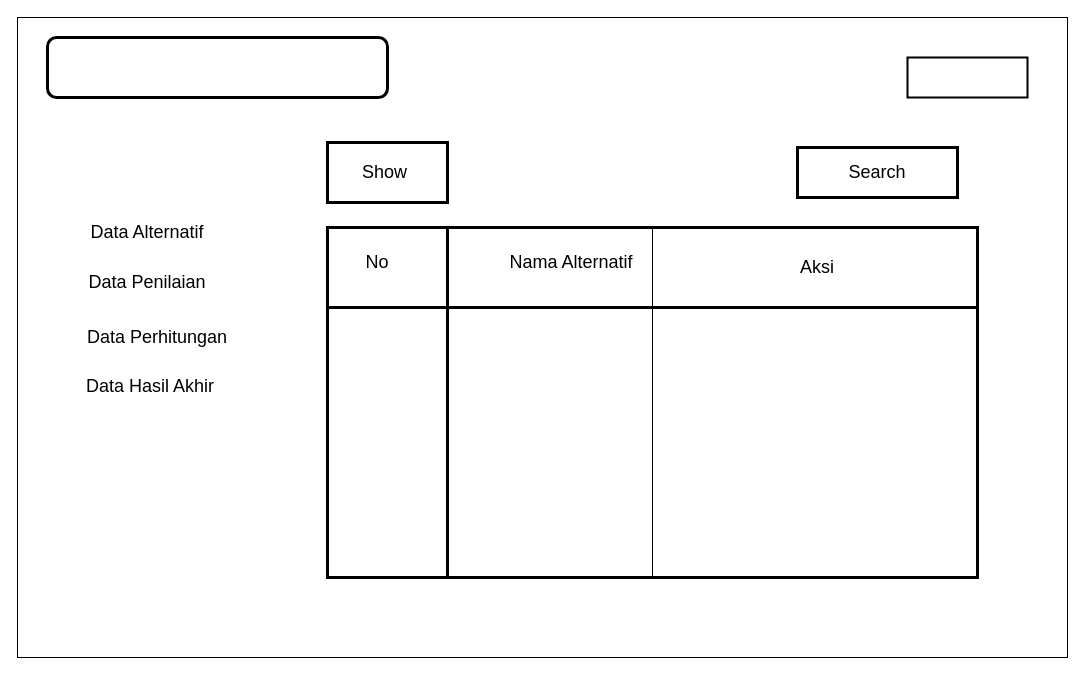
This 1085x675 diagram has some shape labels left out. The centre of each missing label's shape, as x and y in pixels:
"Daftar Kriteria" belongs at (217,67).
"Tambah Data" belongs at (967,77).
